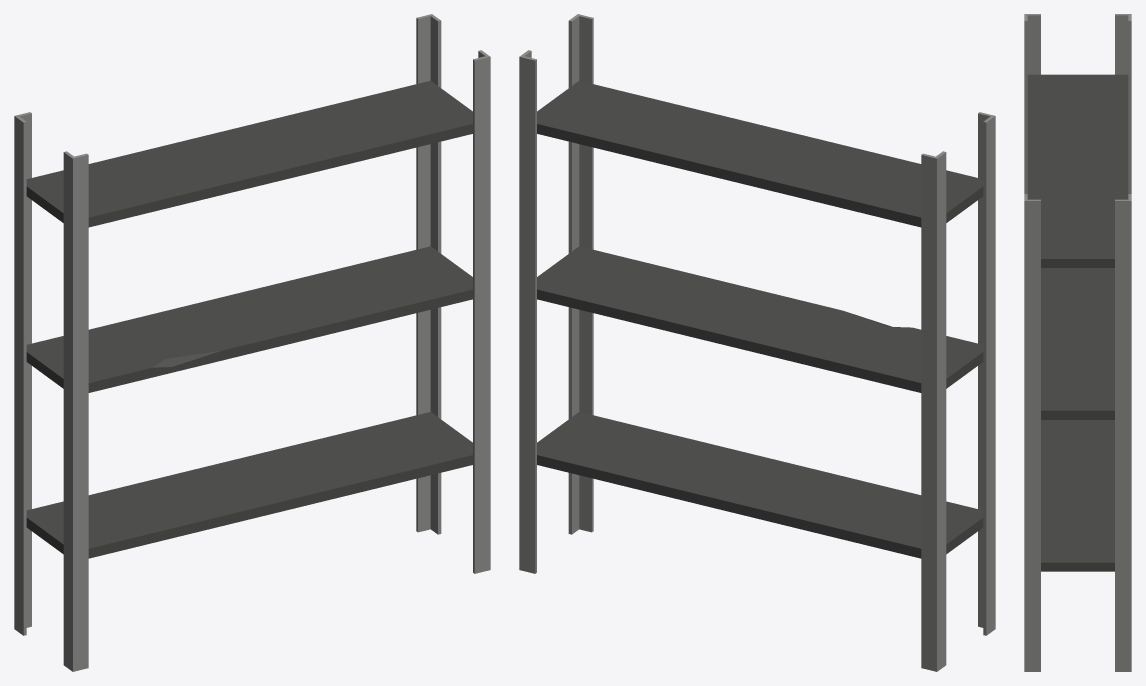
The model's file is SM_Props_Interior_Shop_AutoRepair_Rack.fbx.
3 renders of one model, left to right at view 1: azimuth 30°, elevation 25°; view 2: azimuth 150°, elevation 25°; view 3: azimuth 270°, elevation 25°, orthographic. The views are drawn at different scales.
Visible parts, largest first — view 1: SM_Props_Interior_Shop_AutoRepair_Rack; view 2: SM_Props_Interior_Shop_AutoRepair_Rack; view 3: SM_Props_Interior_Shop_AutoRepair_Rack.
Part boxes in pixels (x1,y1,x2,y2): SM_Props_Interior_Shop_AutoRepair_Rack: [14, 14, 490, 671]; SM_Props_Interior_Shop_AutoRepair_Rack: [519, 14, 995, 671]; SM_Props_Interior_Shop_AutoRepair_Rack: [1024, 14, 1131, 671].
Size of the model in its own units: 264 by 310 by 64.
